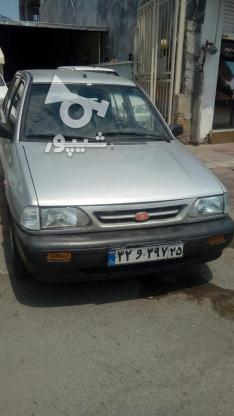car: (108, 242, 183, 267)
